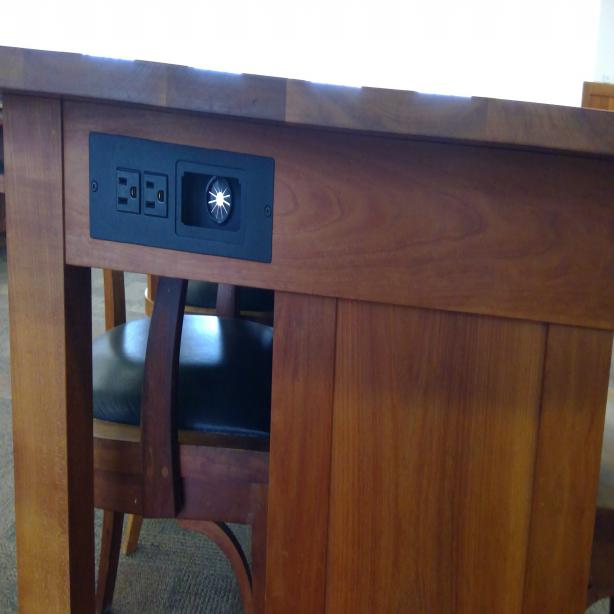typeb: (115, 168, 141, 214), (144, 172, 167, 219)
